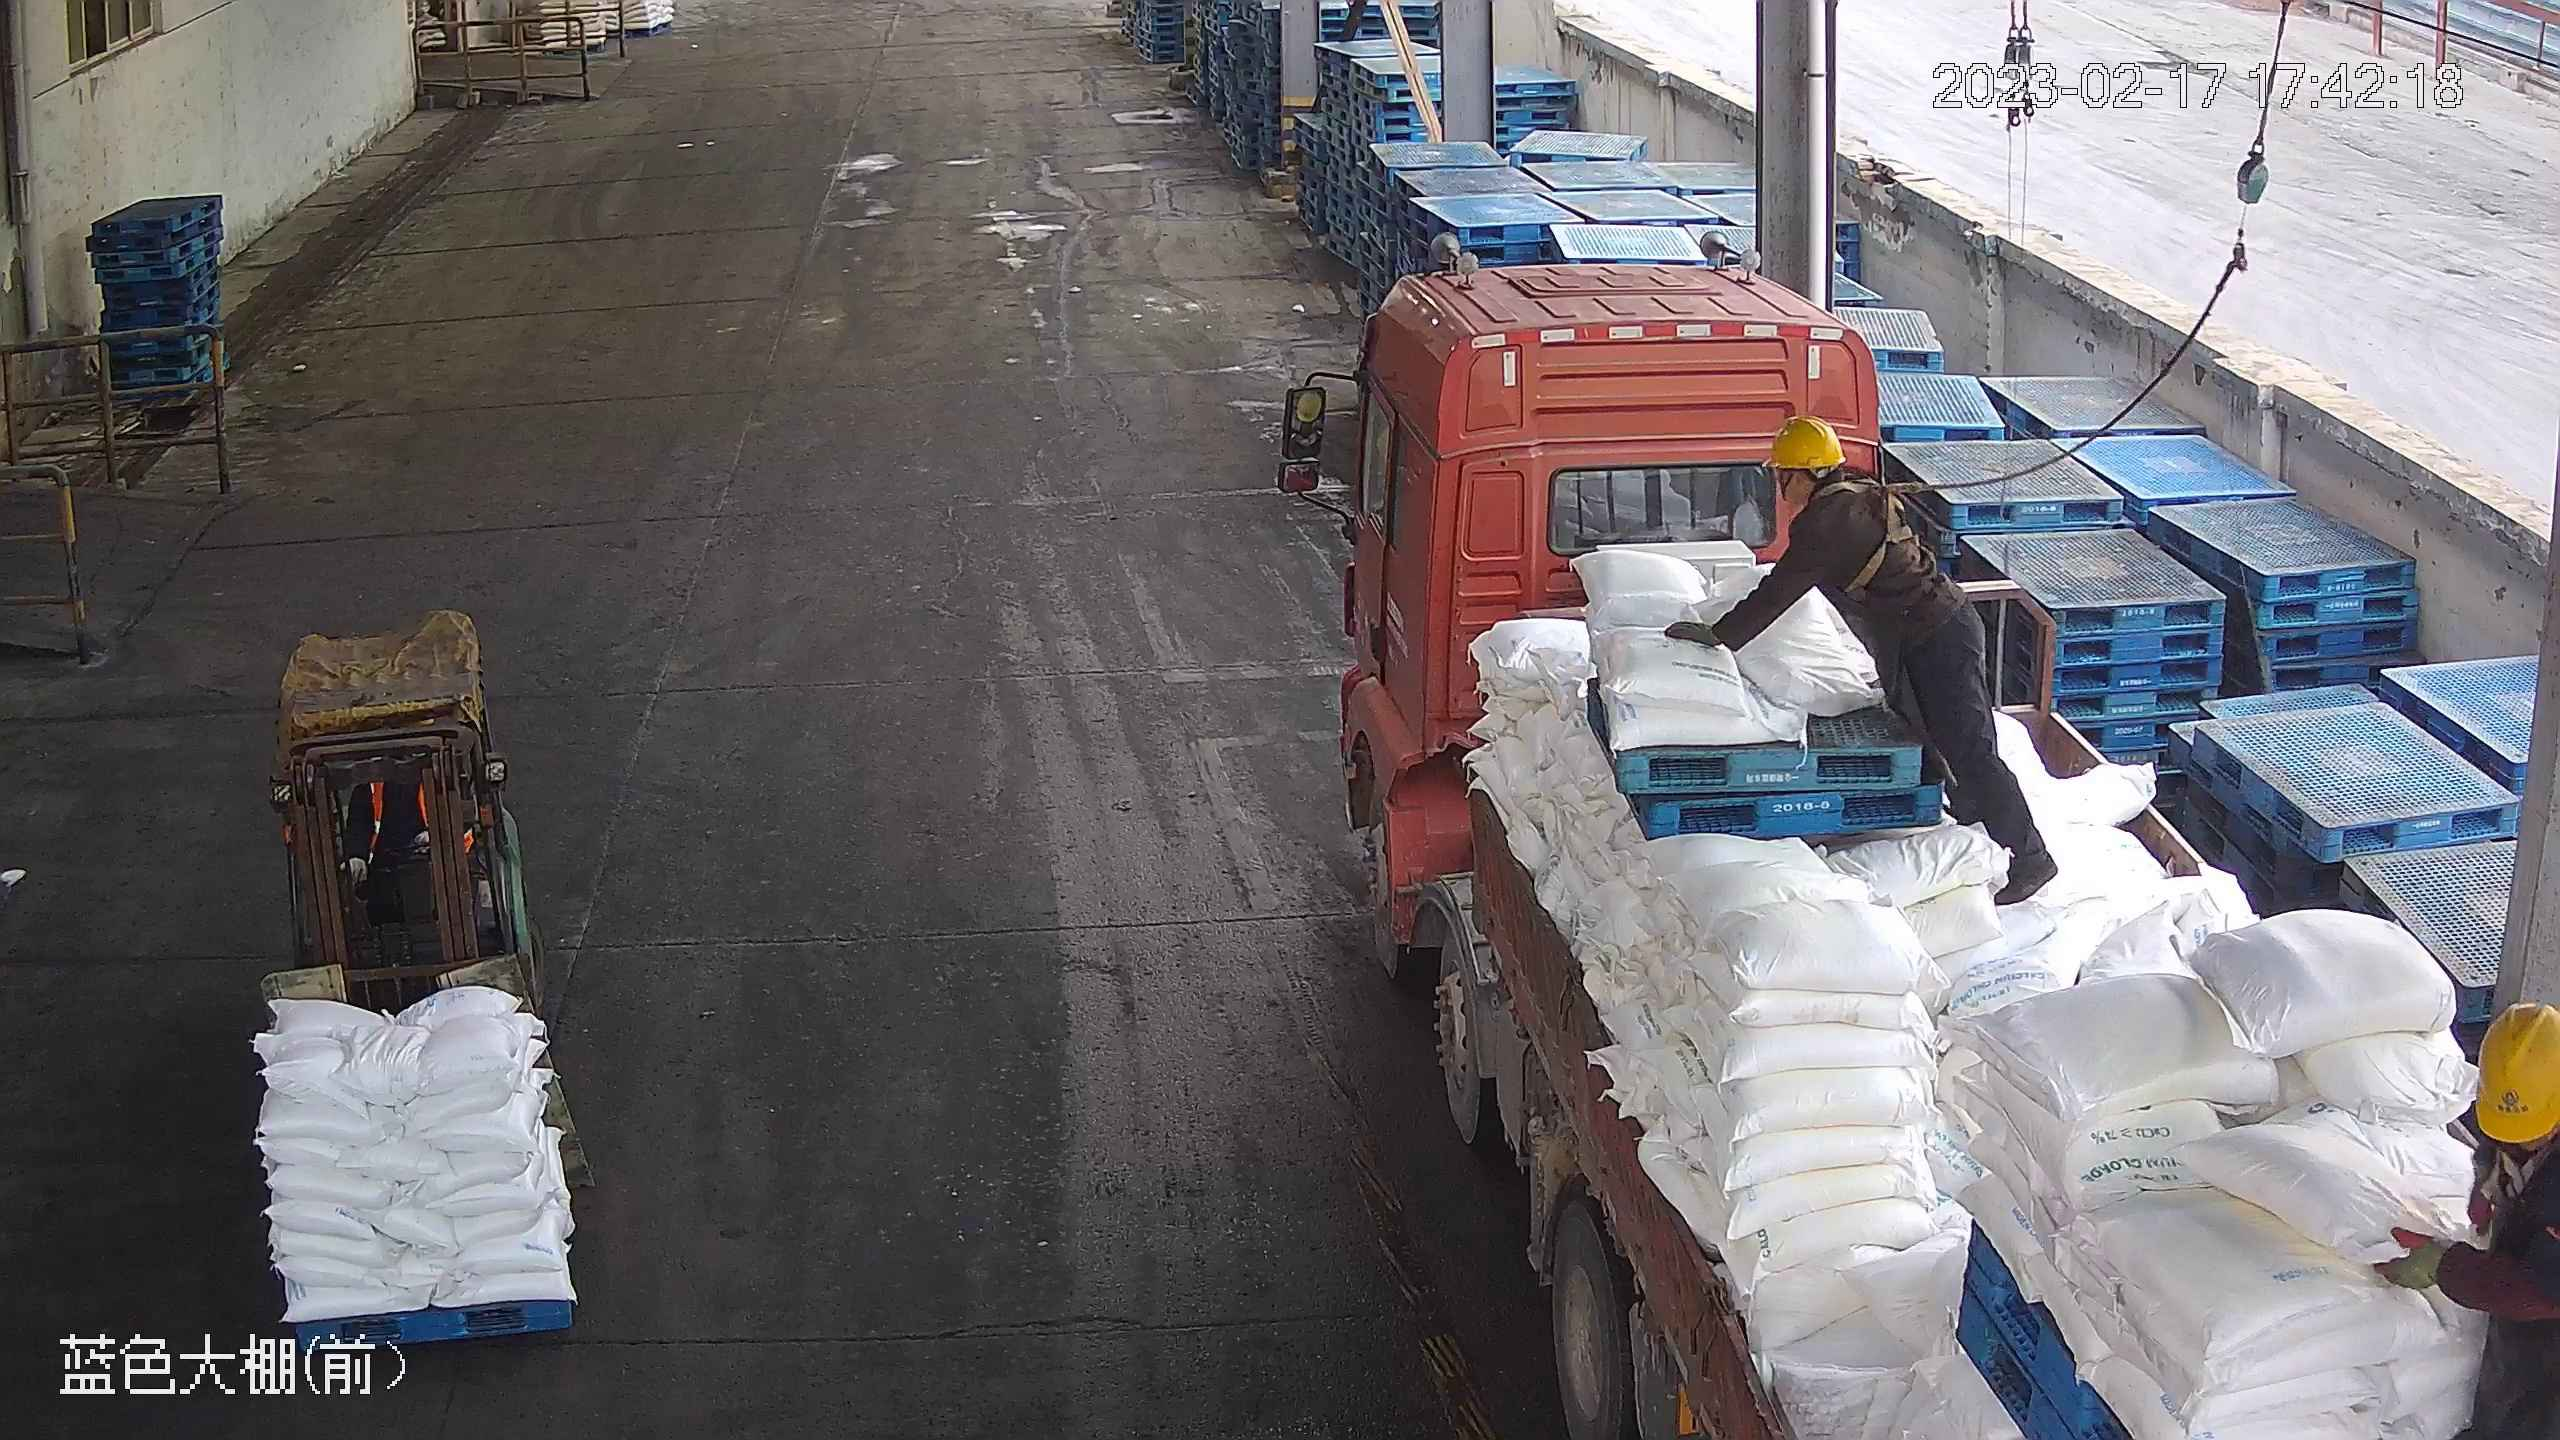belt: (1820, 474, 1917, 600), (2476, 1133, 2559, 1223)
head: (2417, 1000, 2560, 1288), (1737, 418, 1908, 576)
helmet: (2473, 996, 2560, 1144), (1762, 422, 1849, 469)
people: (1666, 413, 2059, 906)
truck: (1278, 256, 2560, 1440)
